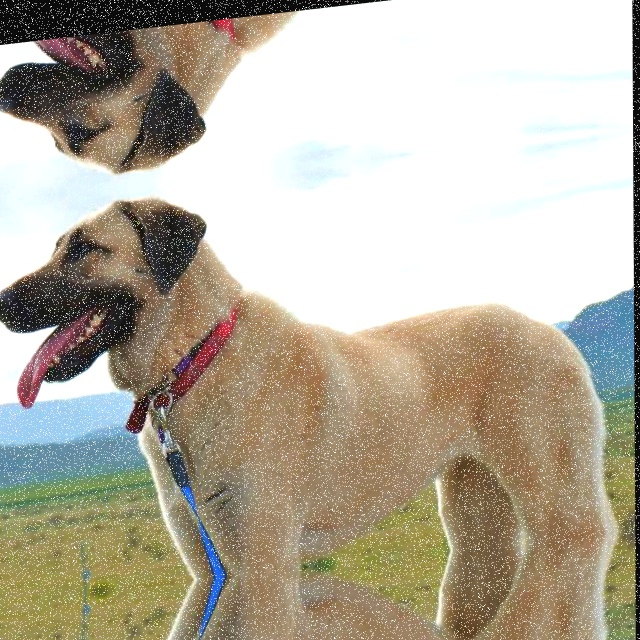dog: (0, 139, 608, 603), (0, 0, 606, 192), (0, 531, 609, 640)
